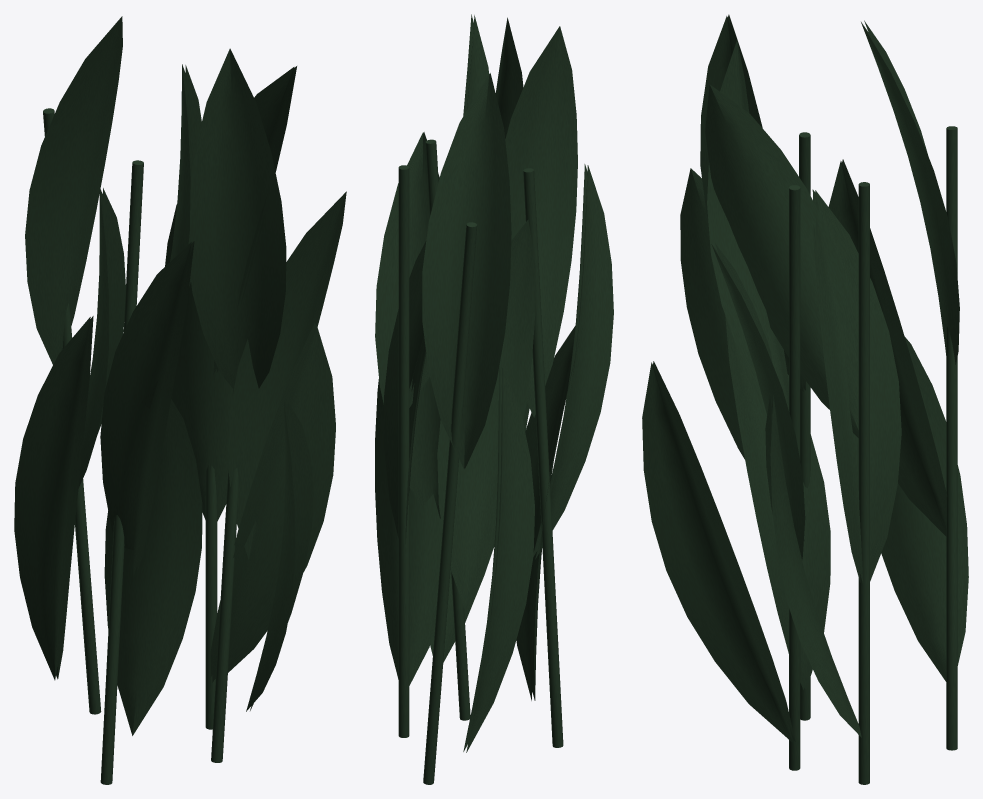
Rendered from vallisneria.glb.
3 views of the same model, side by side, from view 1: azimuth 30°, elevation 25°; view 2: azimuth 150°, elevation 25°; view 3: azimuth 270°, elevation 25° (orthographic). The views are drawn at different scales.
Visible parts, largest first — view 1: moving_stem_3, moving_stem_2, moving_stem_1, moving_stem_0; view 2: moving_stem_2, moving_stem_1, moving_stem_0, moving_stem_3; view 3: moving_stem_0, moving_stem_3, moving_stem_2, moving_stem_1.
Boxes of the visible parts, x1=… form: moving_stem_3: x1=188, y1=48, x2=346, y2=762; moving_stem_2: x1=14, y1=16, x2=125, y2=714; moving_stem_1: x1=100, y1=64, x2=202, y2=784; moving_stem_0: x1=165, y1=66, x2=335, y2=729; moving_stem_2: x1=422, y1=73, x2=535, y2=784; moving_stem_1: x1=505, y1=26, x2=613, y2=747; moving_stem_0: x1=375, y1=14, x2=488, y2=737; moving_stem_3: x1=375, y1=17, x2=529, y2=720; moving_stem_0: x1=705, y1=84, x2=901, y2=784; moving_stem_3: x1=642, y1=40, x2=805, y2=770; moving_stem_2: x1=828, y1=20, x2=968, y2=750; moving_stem_1: x1=680, y1=14, x2=830, y2=720.
Bounding box in the file's own units: 0.5753 × 1.81 × 0.7426.
1 material, 1 textured.
